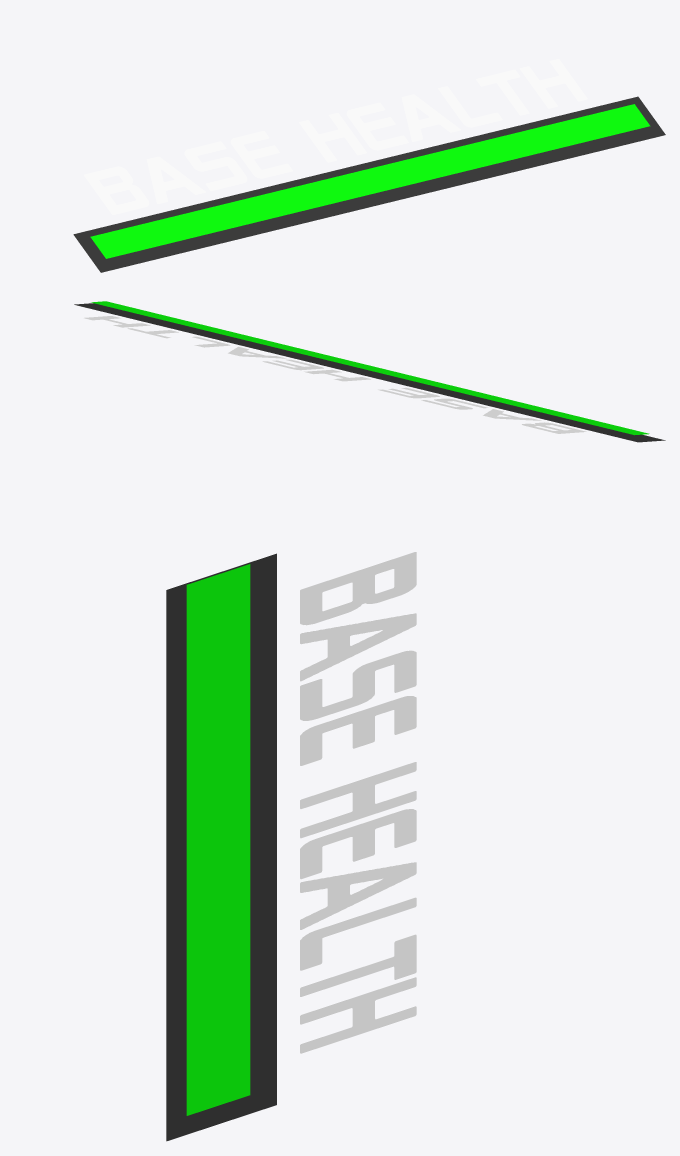
The model's file is BaseHealth.FBX.
The picture shows the model from 3 angles, top to bottom: view 1: azimuth 30°, elevation 25°; view 2: azimuth 150°, elevation 25°; view 3: azimuth 270°, elevation 25°; orthographic projection. The views are drawn at different scales.
Visible parts, largest first — view 1: BaseLife002, BaseLife001, BaseLife; view 2: BaseLife001, BaseLife002, BaseLife; view 3: BaseLife002, BaseLife001, BaseLife.
Part boxes in pixels (<box>): BaseLife002: <box>90,104,650,258</box>; BaseLife001: <box>73,96,665,272</box>; BaseLife: <box>84,59,587,214</box>; BaseLife001: <box>74,303,665,442</box>; BaseLife002: <box>91,301,649,435</box>; BaseLife: <box>84,316,586,433</box>; BaseLife002: <box>186,564,250,1115</box>; BaseLife001: <box>166,553,276,1141</box>; BaseLife: <box>300,552,416,1053</box>.
Bounding box in the file's own units: 11.3 × 1.1 × 3.01.
3 materials, 1 textured.
